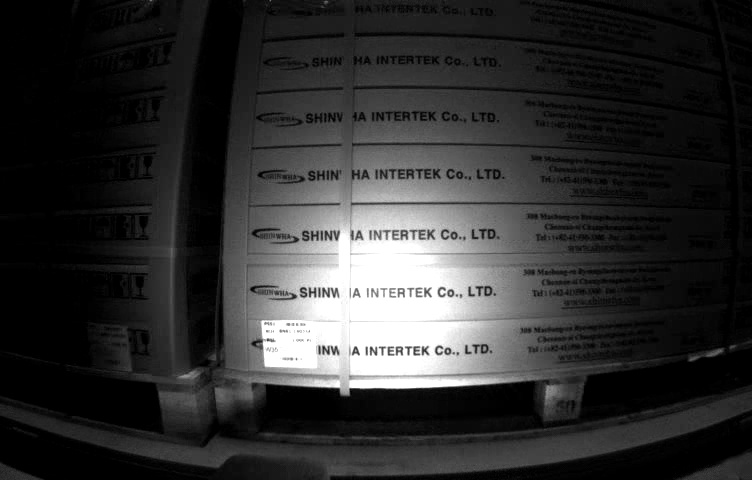True Barcode: (258, 317, 319, 367), (88, 323, 129, 371)
